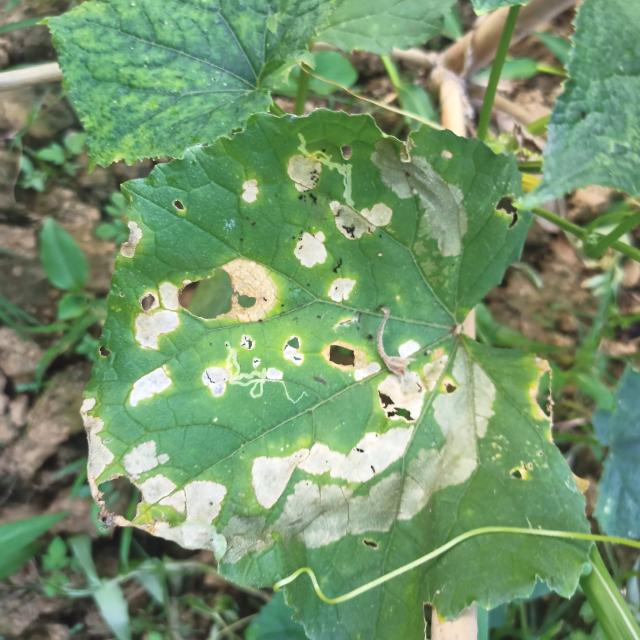disease_cucumber: (199, 349, 503, 567), (114, 141, 400, 351), (75, 343, 229, 575)
